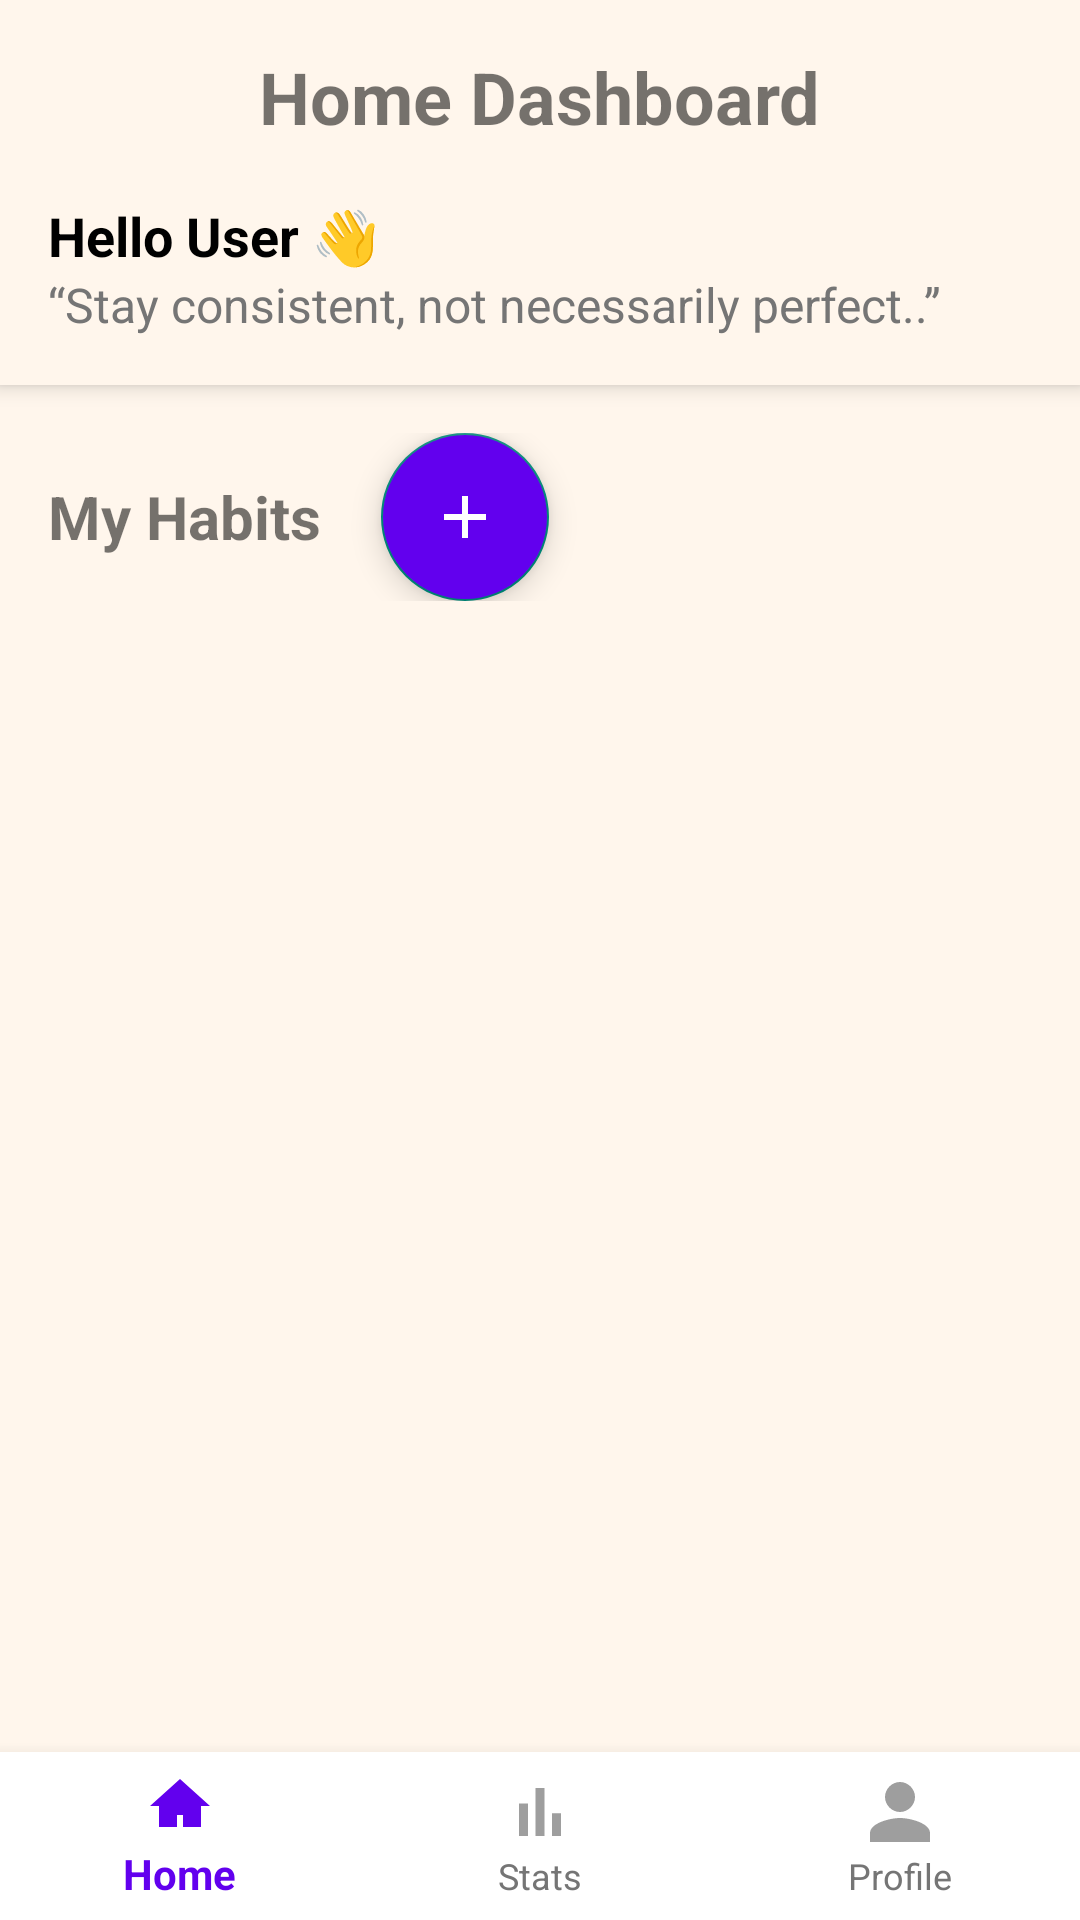

Locate icon controls on the screen. Image size 1080px x 1920px, boxes as (x1, y1, x2, y2).
Add Habit: (381, 433, 549, 601)
